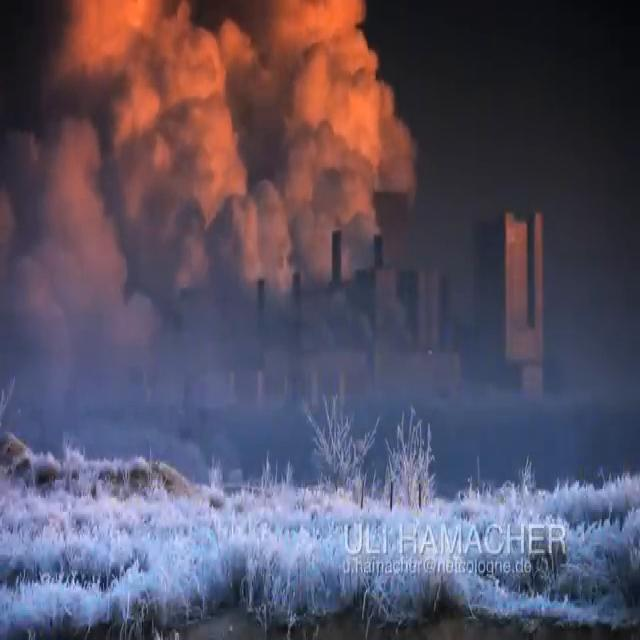smoke: (0, 0, 415, 302)
